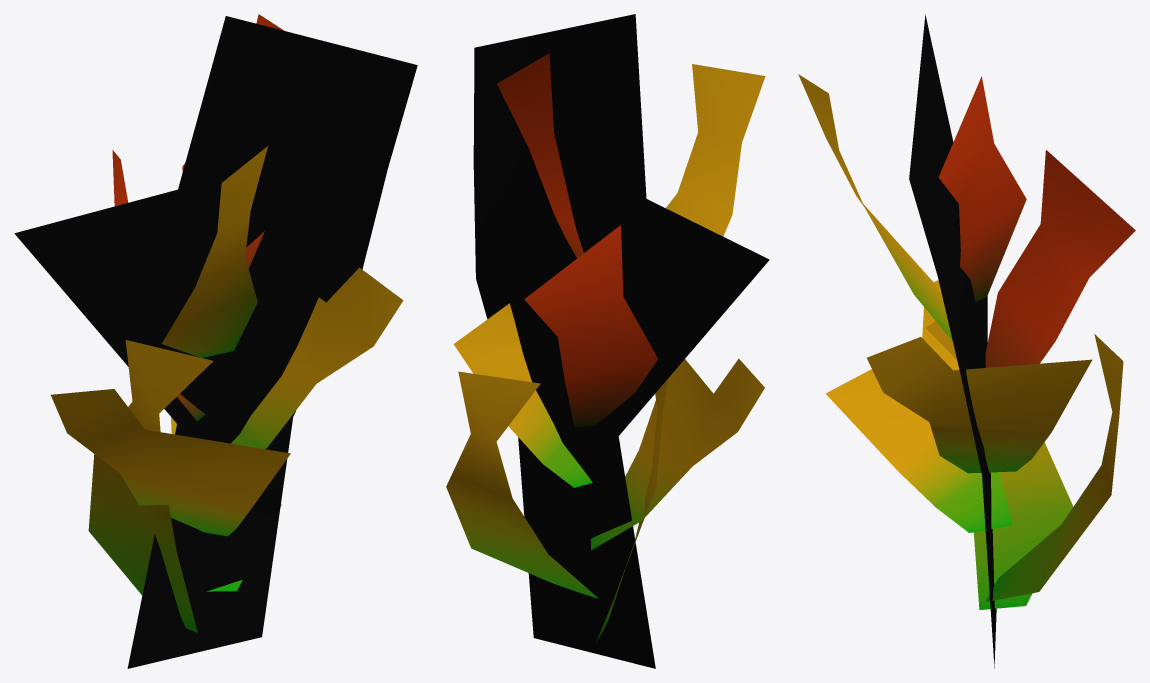
Rendered from Var4Hi13.fbx.
3 views of the same model, side by side, from view 1: azimuth 30°, elevation 25°; view 2: azimuth 150°, elevation 25°; view 3: azimuth 270°, elevation 25° (orthographic). The views are drawn at different scales.
Visible parts, largest first — view 1: bend1; view 2: bend1; view 3: bend1.
Boxes of the visible parts, left/top/right/bottom form: bend1: left=14, top=14, right=417, bottom=668; bend1: left=446, top=14, right=769, bottom=668; bend1: left=798, top=14, right=1135, bottom=668.
Bounding box in the file's own units: 1.31 × 2.31 × 1.14.
